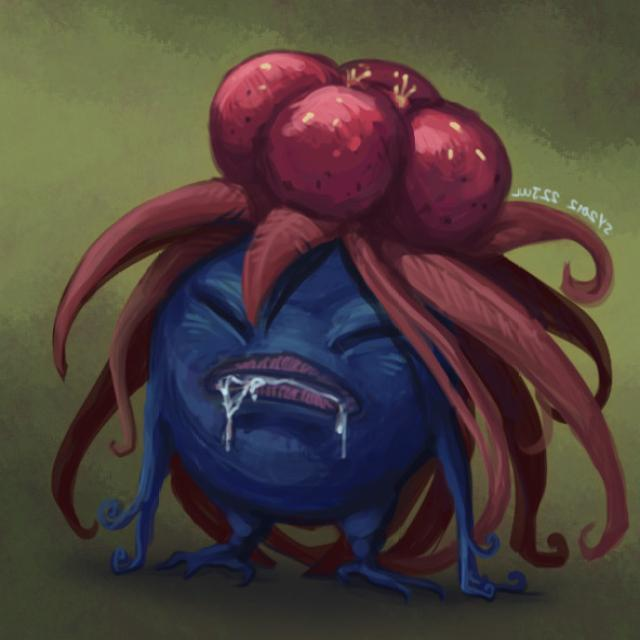Gloom: (93, 42, 624, 586)
